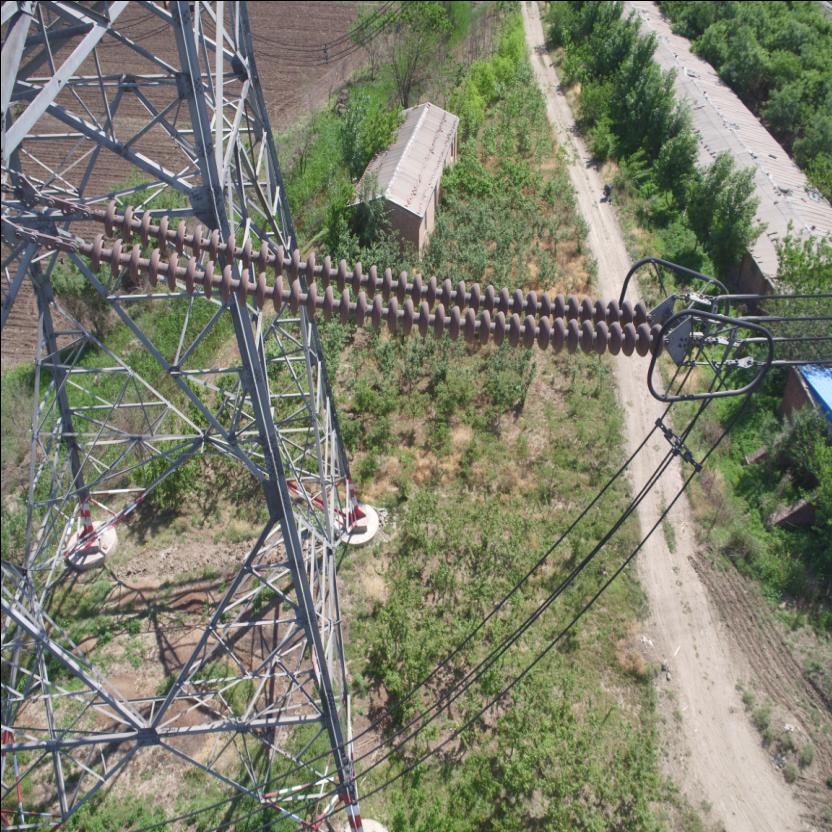insulator: (51, 193, 673, 360)
